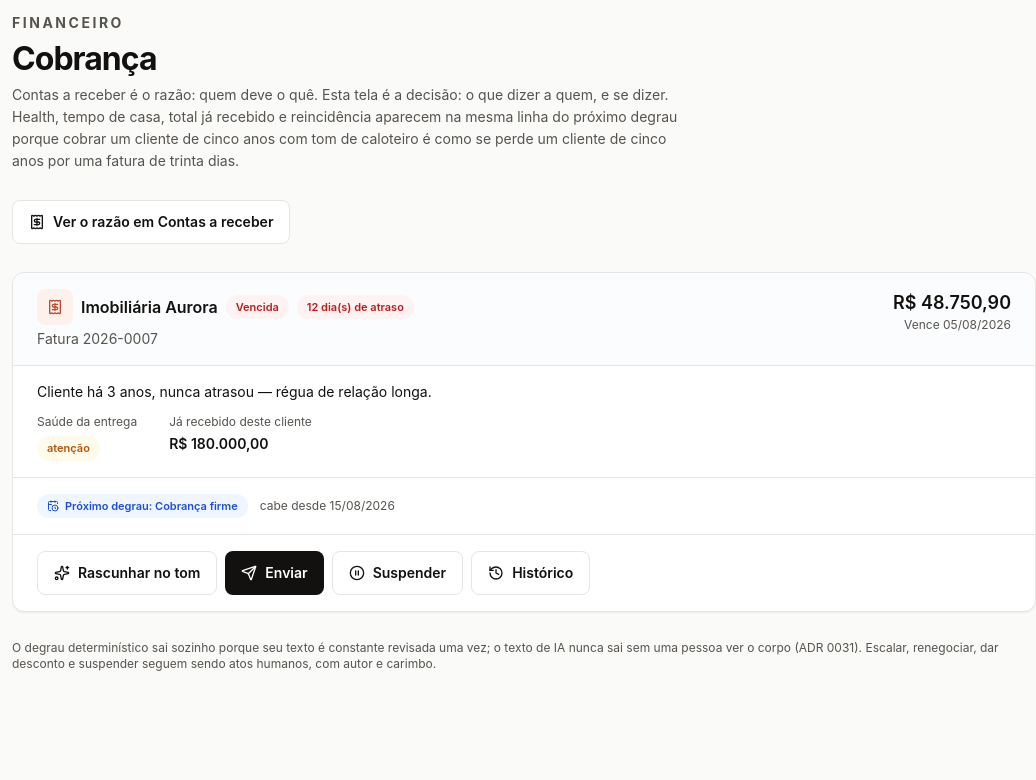
Scenario: o histórico do que já saiu é buscado por fatura, sob demanda
What coordinates should you click on to do the following:
click the button with aria-label "Histórico de cobrança"
I would click on:
 (531, 573)
Its box is [471,551,590,595].
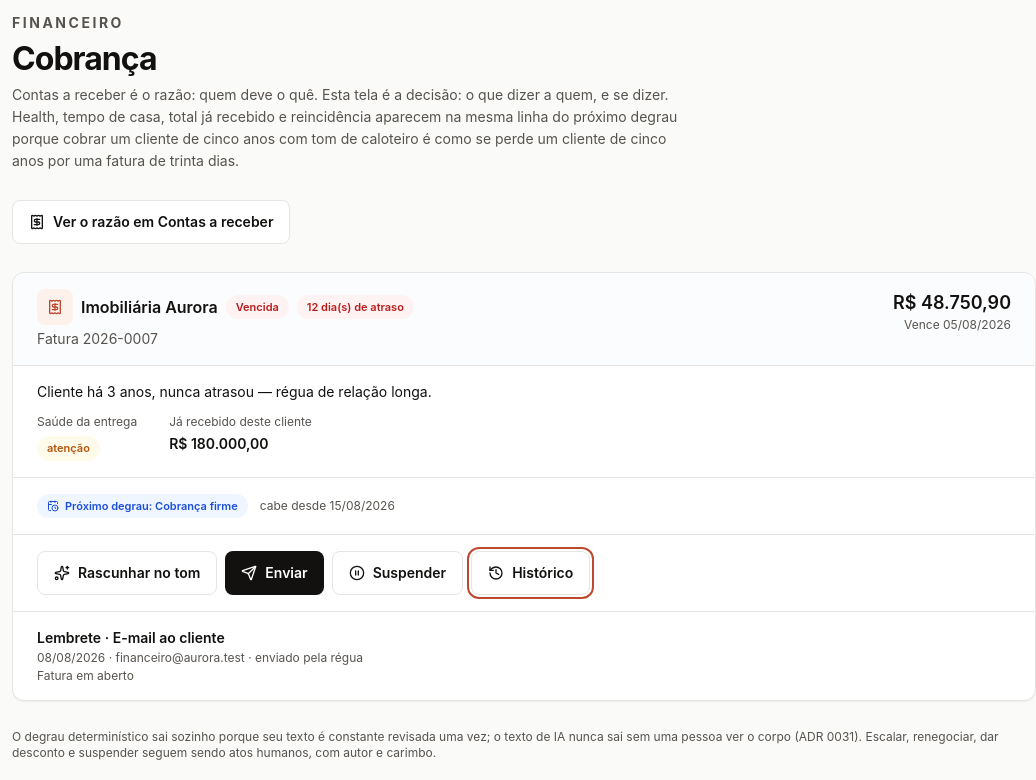
Check: the text "Lembrete · E-mail ao cliente" is shown, box [37,629,225,646]
Check: the text "08/08/2026 · financeiro@aurora.test · enviado pela régua" is shown, box [37,650,363,665]
